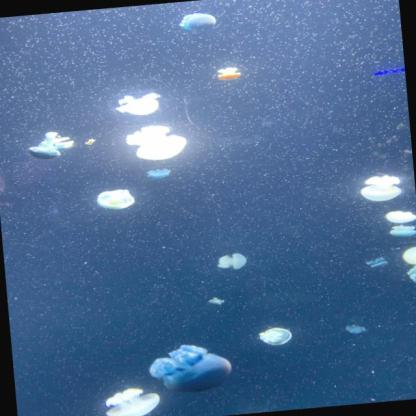jellyfish: (149, 341, 235, 397), (125, 122, 191, 164), (100, 386, 163, 415), (24, 129, 74, 163), (359, 175, 402, 203), (115, 92, 161, 118), (94, 187, 137, 211), (257, 326, 293, 349), (178, 13, 217, 33), (218, 251, 248, 271), (384, 209, 416, 226), (215, 66, 242, 82), (388, 225, 416, 240), (400, 245, 416, 268), (145, 169, 171, 179), (368, 260, 389, 270), (346, 325, 366, 335), (206, 298, 221, 306)
